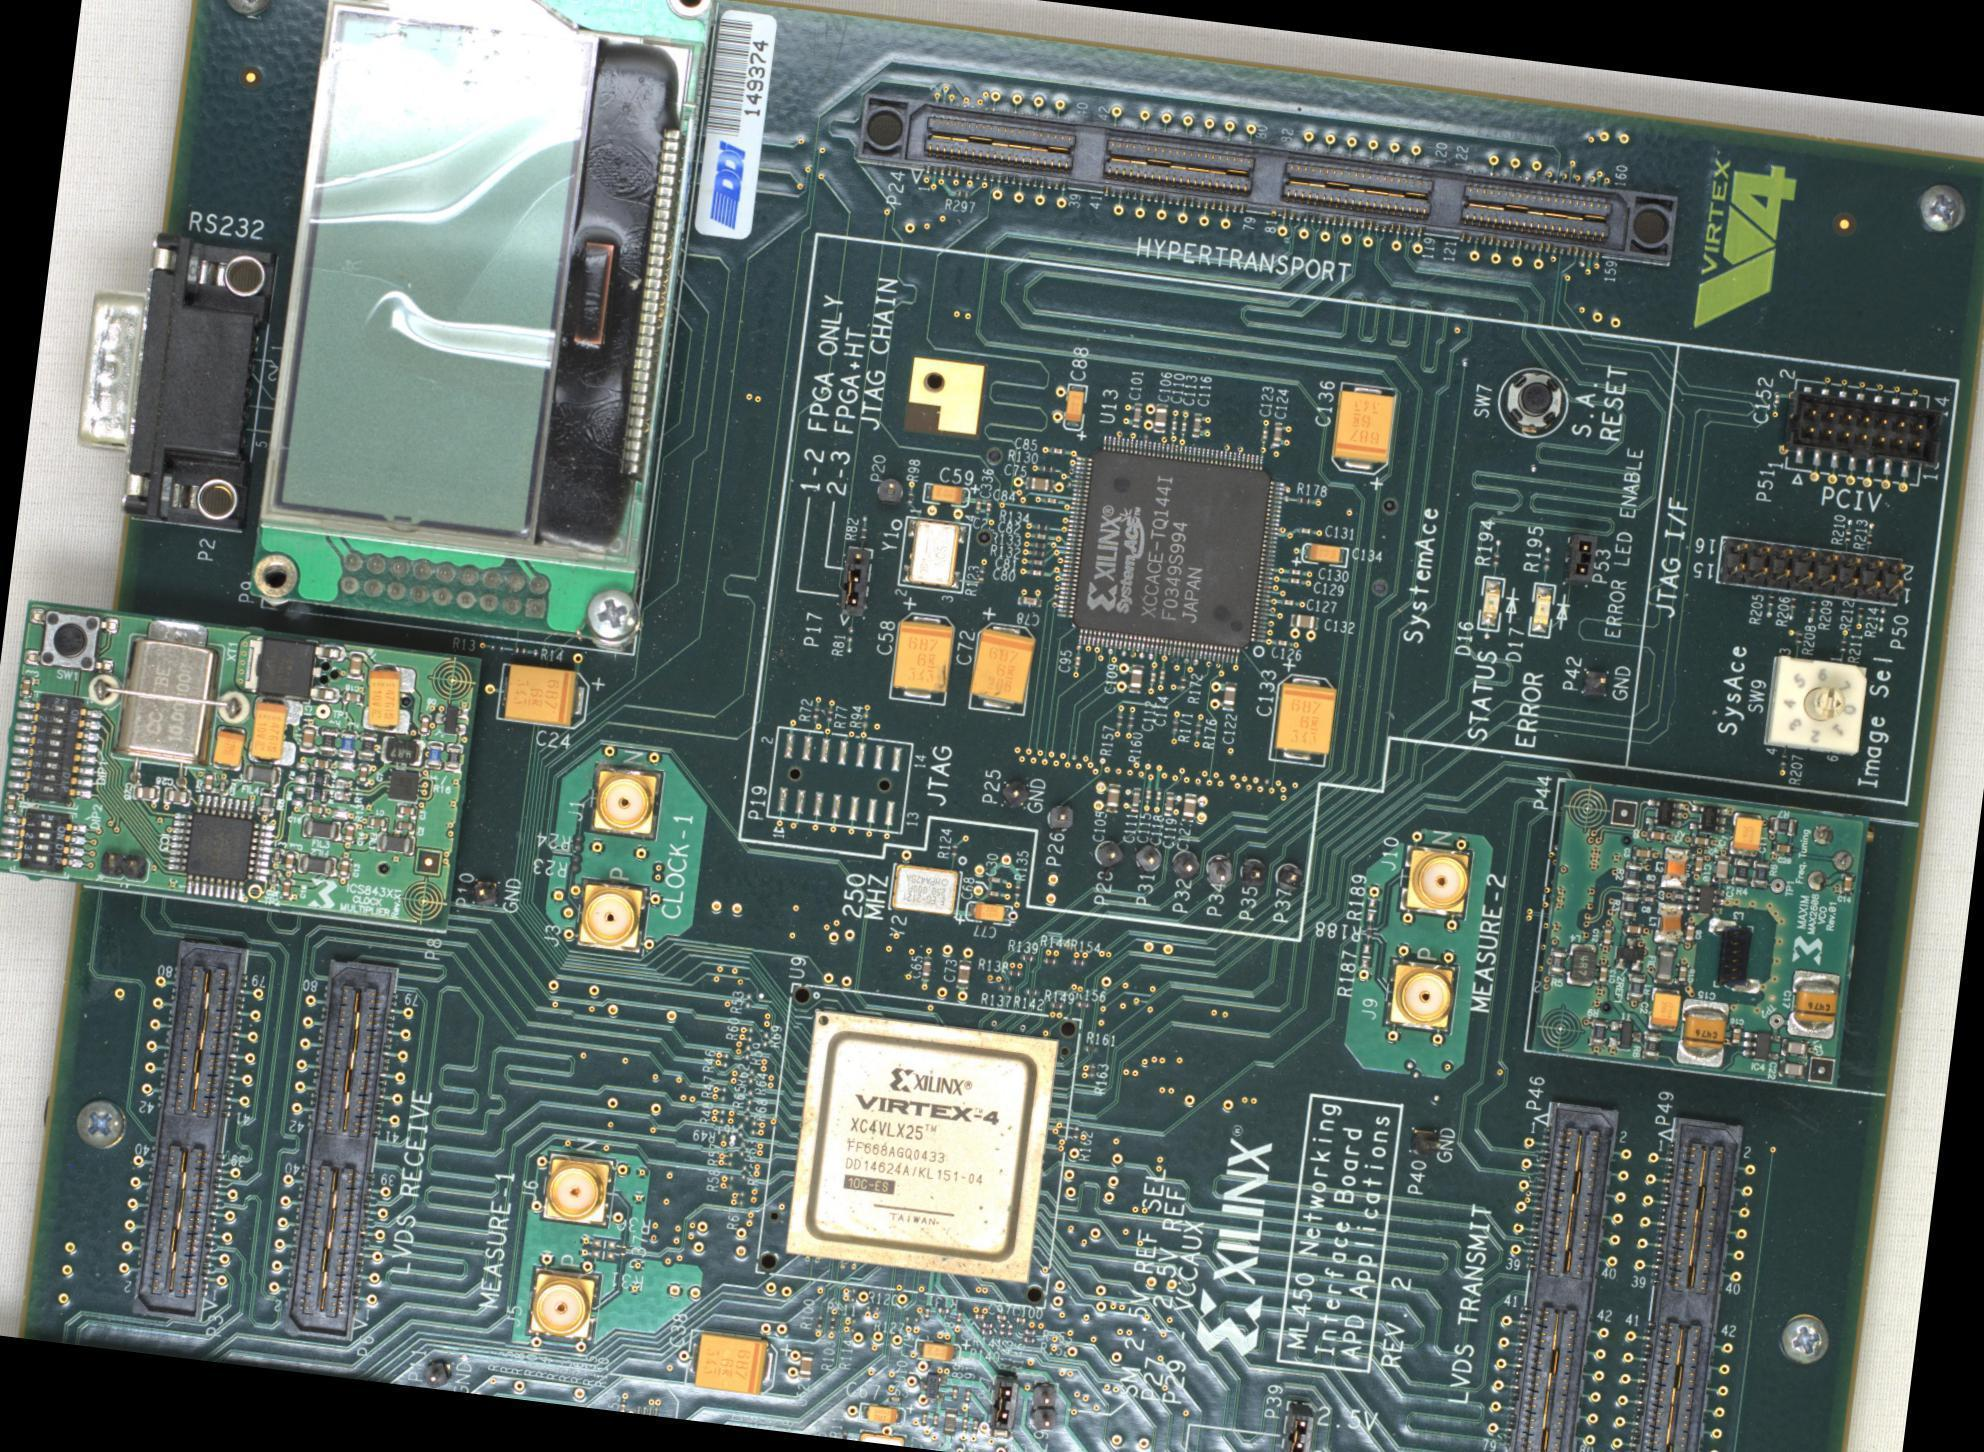Button: (23, 605, 119, 674), (1494, 363, 1572, 441)
Capacitor: (346, 650, 366, 681), (1710, 854, 1730, 884), (131, 782, 161, 802), (298, 723, 317, 754), (1780, 1038, 1808, 1059), (1777, 1059, 1806, 1079), (162, 787, 190, 806), (1290, 612, 1319, 629), (1128, 663, 1144, 693), (1104, 782, 1120, 812), (955, 959, 971, 988), (1025, 476, 1054, 492), (1221, 681, 1236, 711), (798, 1350, 813, 1380), (1153, 402, 1168, 432), (1181, 793, 1196, 822), (394, 802, 418, 820), (1769, 839, 1793, 856), (336, 856, 353, 880), (310, 755, 332, 772), (1644, 827, 1667, 843), (1839, 871, 1855, 894), (18, 676, 34, 699), (1673, 962, 1689, 985), (392, 817, 415, 833), (282, 849, 297, 873), (417, 714, 432, 737), (1681, 921, 1696, 944), (279, 877, 294, 900), (342, 691, 364, 706), (304, 801, 326, 816), (342, 821, 357, 843), (3, 790, 18, 812), (1016, 594, 1041, 607), (1162, 790, 1174, 816), (919, 955, 931, 981), (987, 1427, 1013, 1439), (1631, 845, 1653, 859), (1690, 852, 1704, 874), (356, 763, 370, 785), (1599, 925, 1613, 947), (202, 770, 216, 792), (1595, 963, 1609, 985), (1727, 1025, 1741, 1047), (1271, 421, 1283, 446), (1622, 922, 1643, 936), (1691, 833, 1711, 847), (1130, 787, 1141, 812), (1191, 411, 1202, 436), (1131, 401, 1141, 425), (217, 779, 229, 795), (1641, 880, 1656, 892), (1670, 890, 1685, 902), (271, 848, 283, 863), (1640, 893, 1654, 905), (269, 869, 280, 884), (1029, 567, 1044, 577), (1043, 495, 1059, 504), (1287, 567, 1303, 576), (1144, 787, 1153, 803), (987, 875, 1003, 884), (919, 1409, 927, 1427), (961, 1415, 970, 1431), (973, 495, 981, 512), (1147, 669, 1155, 686), (1154, 786, 1162, 803), (1297, 525, 1312, 534), (1033, 531, 1048, 540), (1286, 575, 1301, 584), (1280, 598, 1295, 607), (1072, 653, 1081, 668), (888, 1394, 903, 1403), (1049, 446, 1064, 455), (984, 498, 992, 514), (984, 888, 1000, 896), (954, 1308, 962, 1324), (922, 1305, 930, 1321), (963, 1388, 971, 1404), (1260, 426, 1268, 442), (1169, 417, 1177, 433), (1030, 557, 1044, 566), (951, 1384, 958, 1402), (1158, 667, 1166, 682), (994, 1313, 1009, 1321), (1013, 1316, 1028, 1324), (1274, 638, 1289, 645), (972, 1313, 987, 1320), (931, 1411, 938, 1426), (972, 1417, 979, 1432), (1180, 419, 1187, 434), (618, 1400, 626, 1412)
Connector: (853, 91, 1682, 266), (62, 223, 278, 537), (129, 937, 248, 1328), (283, 957, 399, 1346), (1502, 1100, 1619, 1451), (1626, 1114, 1743, 1451), (1764, 478, 1932, 592), (1713, 534, 1903, 606), (524, 1262, 604, 1342), (586, 761, 665, 842), (1381, 955, 1460, 1035), (573, 875, 652, 955), (540, 1150, 618, 1229), (1397, 842, 1475, 920), (1026, 1379, 1062, 1433), (97, 848, 149, 882), (1408, 1128, 1442, 1162), (1132, 841, 1163, 873), (422, 1357, 453, 1389), (1093, 838, 1125, 868), (1203, 851, 1232, 884), (1237, 857, 1267, 888), (1169, 849, 1200, 879), (1272, 861, 1302, 892), (1047, 802, 1077, 832), (999, 779, 1028, 810), (875, 477, 904, 506), (472, 879, 500, 909), (1580, 668, 1608, 697), (845, 544, 873, 565), (1772, 390, 1780, 407)
Electrolytic Capacitor: (1266, 670, 1338, 768), (682, 1326, 780, 1398), (887, 609, 957, 707), (965, 619, 1035, 717), (494, 661, 591, 731), (1328, 380, 1398, 477), (361, 660, 416, 734), (247, 695, 302, 768), (1786, 971, 1841, 1042), (1675, 998, 1729, 1068), (211, 724, 246, 770), (1728, 811, 1762, 857), (1647, 986, 1681, 1032), (922, 480, 971, 507), (964, 899, 1013, 926), (1062, 382, 1088, 431), (916, 1339, 965, 1364), (858, 1401, 906, 1426)
IC: (754, 981, 1081, 1309), (1053, 431, 1285, 667), (166, 791, 277, 902), (1644, 796, 1684, 828), (1741, 1029, 1779, 1062), (1686, 882, 1725, 914), (1689, 802, 1729, 833), (386, 769, 420, 803), (918, 1370, 946, 1402)
Inductor: (1701, 916, 1767, 995), (379, 734, 424, 767), (1565, 942, 1596, 988), (1653, 901, 1685, 945), (1659, 845, 1690, 890)
Led: (1475, 574, 1505, 632), (1527, 581, 1557, 638)
Pads: (765, 725, 913, 834), (588, 1236, 617, 1262), (1359, 943, 1371, 970), (294, 761, 308, 783), (292, 785, 306, 807), (1365, 897, 1376, 923), (338, 760, 355, 772), (332, 808, 349, 820), (735, 1119, 745, 1138), (725, 1150, 735, 1169), (761, 1030, 771, 1048), (718, 1086, 728, 1104), (725, 1173, 734, 1193), (737, 1188, 746, 1208), (717, 1108, 726, 1127), (739, 1163, 748, 1182), (845, 634, 854, 652), (742, 1044, 751, 1062), (721, 1051, 730, 1069), (745, 1087, 754, 1105), (864, 1303, 881, 1312), (747, 1066, 755, 1085), (849, 1316, 857, 1335), (718, 1133, 736, 1141), (738, 1139, 746, 1157), (902, 1315, 920, 1323), (744, 992, 752, 1009), (746, 1026, 754, 1043), (742, 1105, 750, 1122), (749, 1119, 757, 1136), (849, 1286, 857, 1303), (490, 642, 505, 651), (1876, 616, 1884, 632), (862, 711, 869, 728)
Pins: (334, 547, 554, 622), (1804, 821, 1857, 896)
Resistor: (424, 739, 445, 770), (256, 785, 276, 817), (317, 726, 338, 756), (1768, 815, 1798, 835), (1618, 890, 1638, 920), (1547, 947, 1567, 977), (1641, 1030, 1661, 1060), (443, 742, 463, 771), (357, 730, 376, 760), (1731, 856, 1749, 887), (1750, 859, 1769, 888), (338, 728, 357, 757), (1589, 1017, 1608, 1046), (1623, 860, 1642, 888), (1625, 972, 1644, 1000), (333, 778, 352, 801), (308, 773, 329, 787), (306, 787, 326, 801), (572, 835, 584, 853), (570, 855, 579, 872), (1023, 986, 1040, 995), (1038, 464, 1055, 473), (903, 487, 912, 503), (1114, 712, 1123, 728), (998, 982, 1014, 991), (1048, 1000, 1064, 1009), (1021, 1327, 1037, 1336), (1296, 495, 1312, 504), (1178, 675, 1186, 692), (1194, 720, 1202, 737), (1171, 718, 1179, 735), (1126, 712, 1134, 729), (1034, 522, 1049, 531), (1032, 540, 1047, 549), (858, 526, 867, 541), (513, 646, 528, 655), (1031, 549, 1047, 557), (1779, 751, 1787, 767), (1018, 953, 1034, 961), (1088, 1062, 1096, 1078), (619, 1241, 627, 1257), (1012, 884, 1021, 898), (1491, 551, 1499, 566), (1839, 638, 1847, 653), (1365, 925, 1373, 940), (1070, 957, 1085, 965), (1007, 969, 1022, 977), (1082, 1045, 1097, 1053), (935, 1306, 950, 1314), (1021, 1335, 1036, 1343), (812, 706, 820, 720), (950, 842, 957, 858), (1043, 957, 1057, 965), (1072, 1124, 1079, 1140), (980, 1320, 994, 1328), (1543, 555, 1550, 570), (1796, 629, 1803, 644), (978, 567, 985, 582), (1075, 1001, 1090, 1008), (1006, 1322, 1013, 1337), (998, 1321, 1005, 1336), (979, 1328, 994, 1335), (815, 1313, 822, 1328), (828, 1316, 835, 1331), (1865, 531, 1872, 546), (1844, 529, 1851, 544), (1767, 593, 1774, 607), (1810, 598, 1817, 612), (1856, 604, 1863, 618), (826, 708, 833, 722), (1790, 596, 1796, 610), (841, 1429, 848, 1439)
Switch: (6, 687, 104, 810), (0, 800, 90, 880)
Transistor: (232, 631, 346, 704), (1607, 1018, 1642, 1052), (433, 703, 469, 736)
